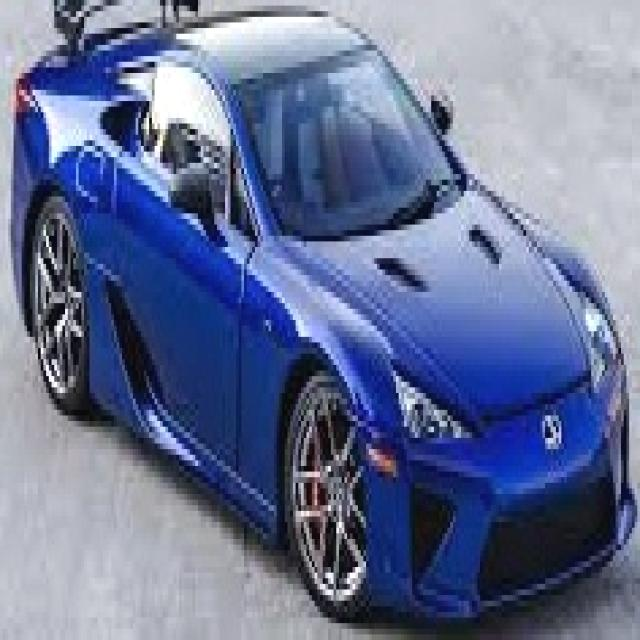blue: (11, 0, 637, 623)
